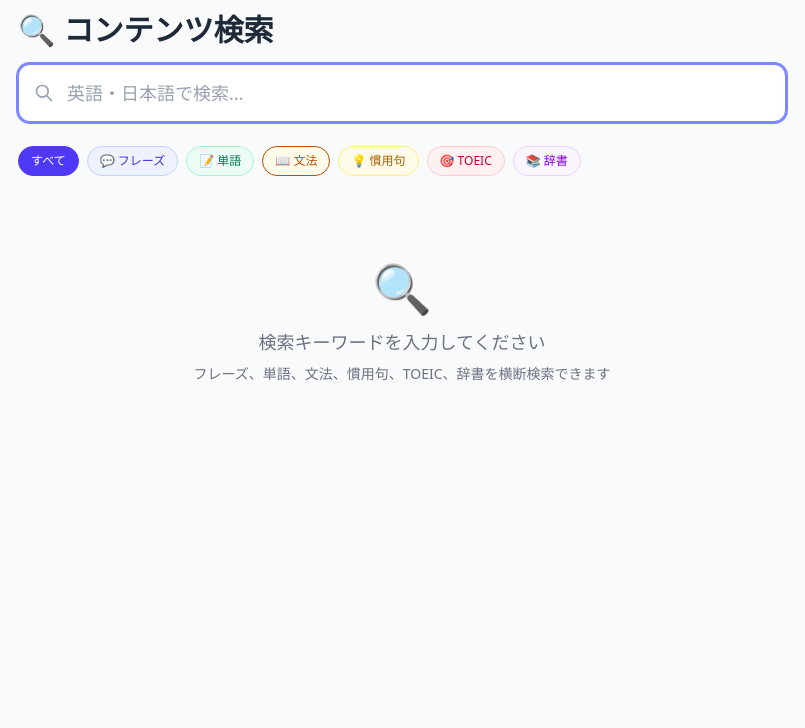
Test: SearchPage › does not record too-short queries or zero-result searches
The width and height of the screenshot is (805, 728).
Type "y" into the field named "コンテンツを検索".
click(402, 93); type("y")  # box [18, 64, 786, 122]
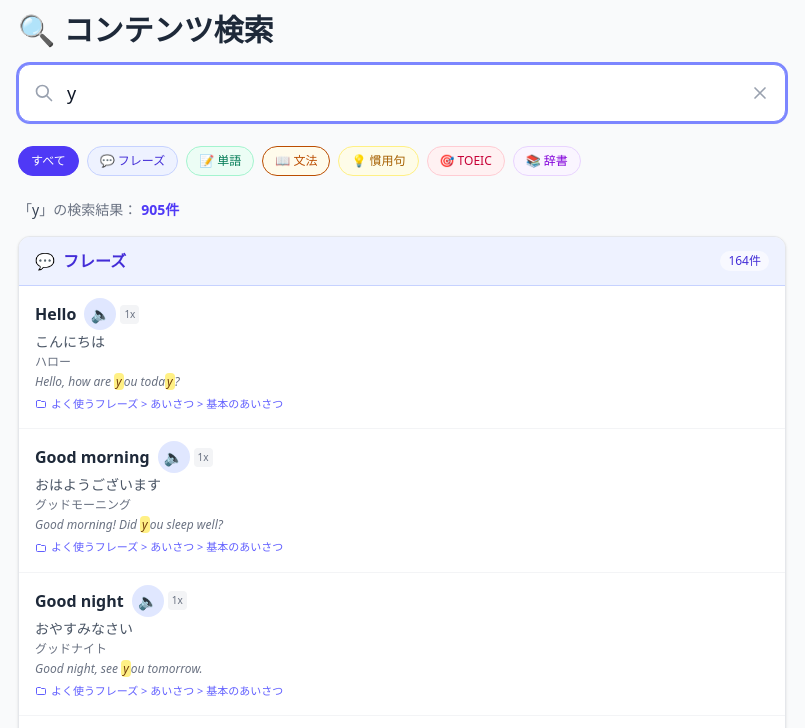
Now the text "検索キーワードを入力してください" is gone
Clear the field named "コンテンツを検索" at (402, 93), box [18, 64, 786, 122]
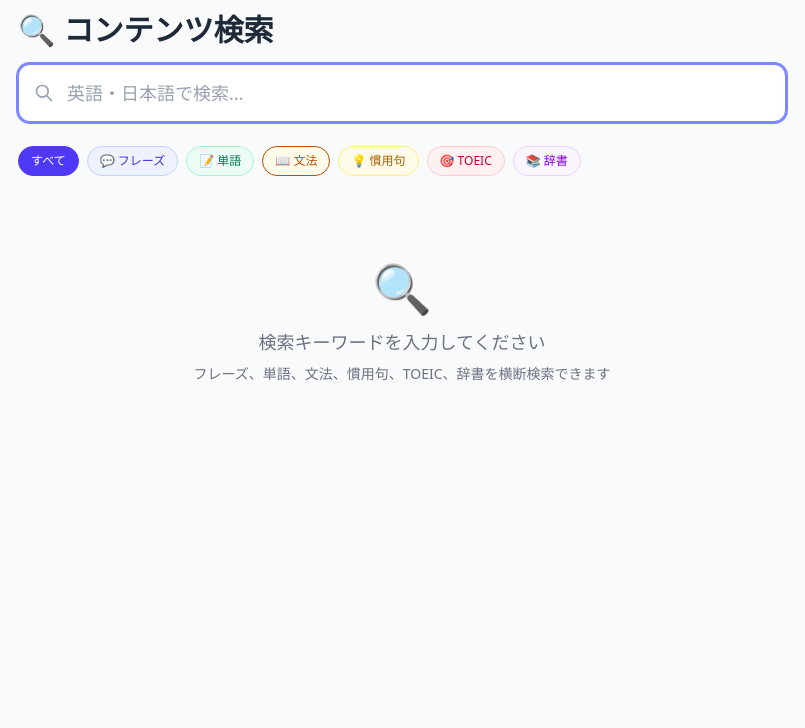
Now the text "検索キーワードを入力してください" is shown, box [258, 330, 545, 354]
Click the button "すべて".
click(48, 161)  # box [18, 146, 79, 176]
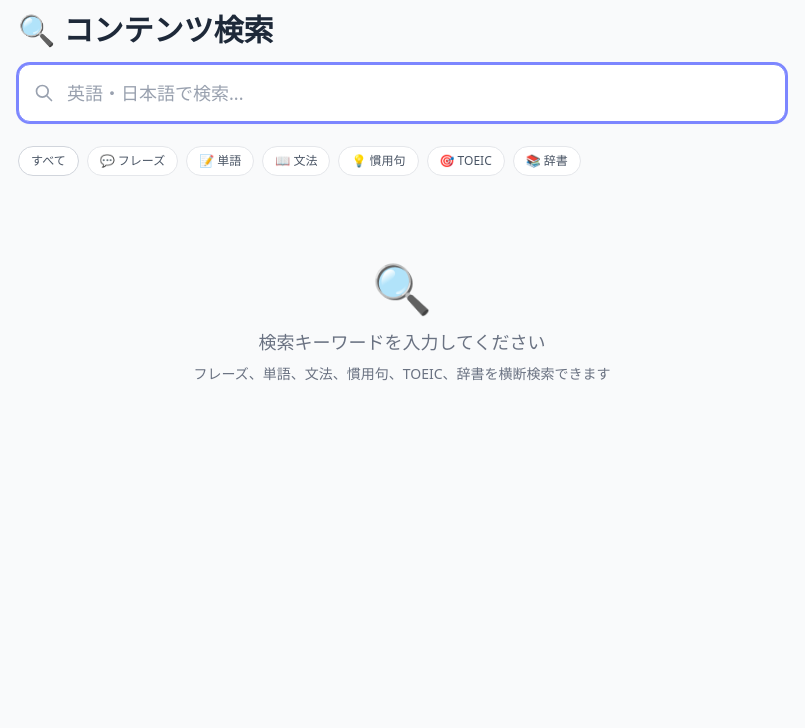
Type "you" into the field named "コンテンツを検索".
click(402, 93); type("you")  # box [18, 64, 786, 122]
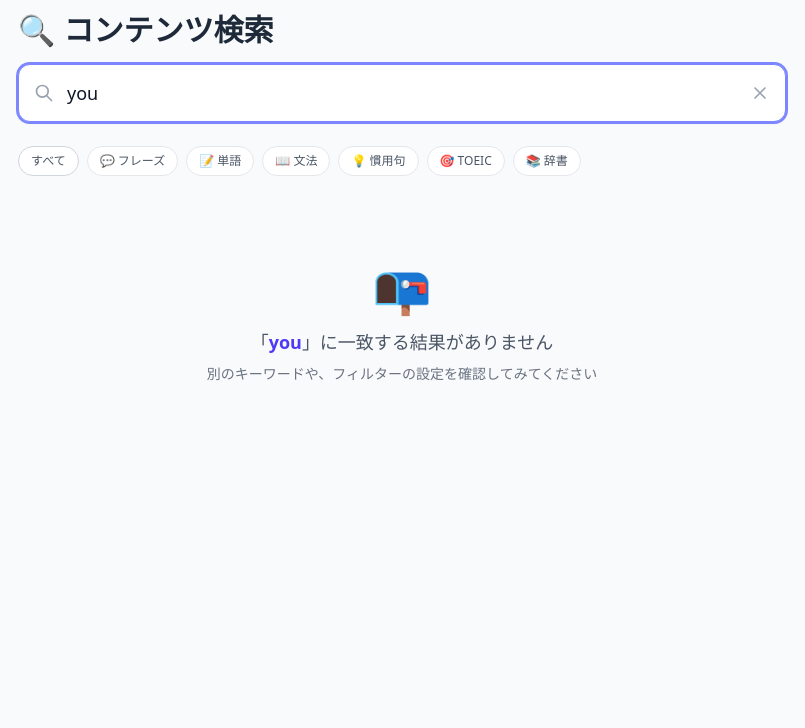
Now the text "「you」に一致する結果がありません" is shown, box [251, 330, 553, 354]
Clear the field named "コンテンツを検索" at (402, 93), box [18, 64, 786, 122]
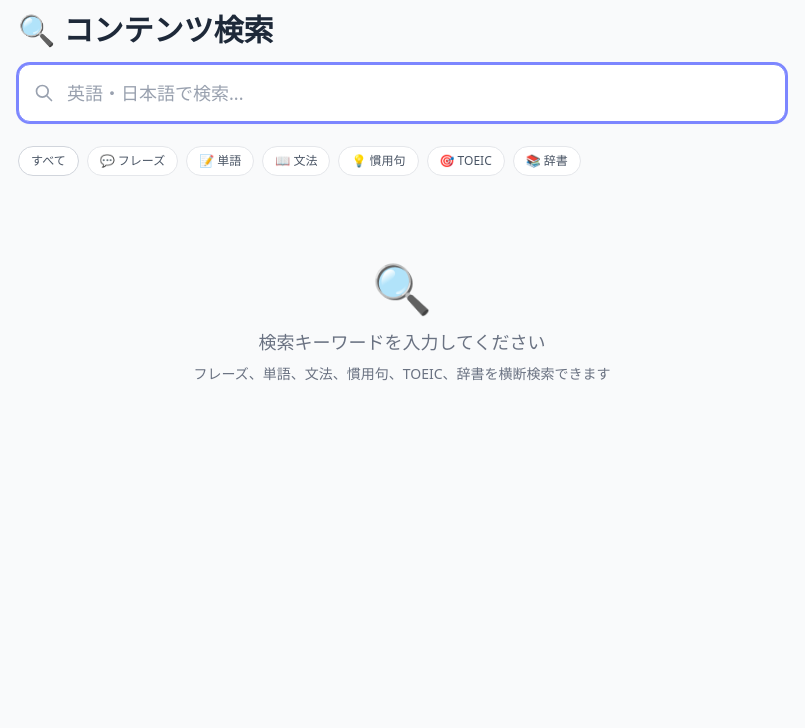
Now the text "検索キーワードを入力してください" is shown, box [258, 330, 545, 354]
